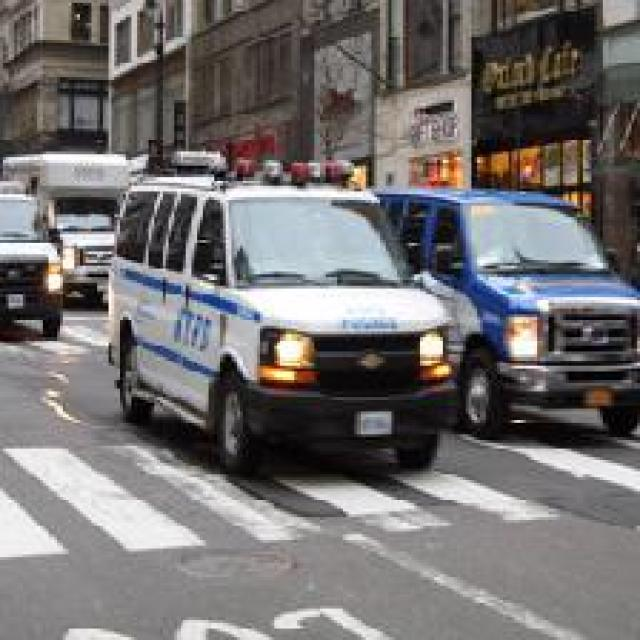Ambulance: (103, 146, 460, 474)
MiniBus: (366, 183, 637, 437)
